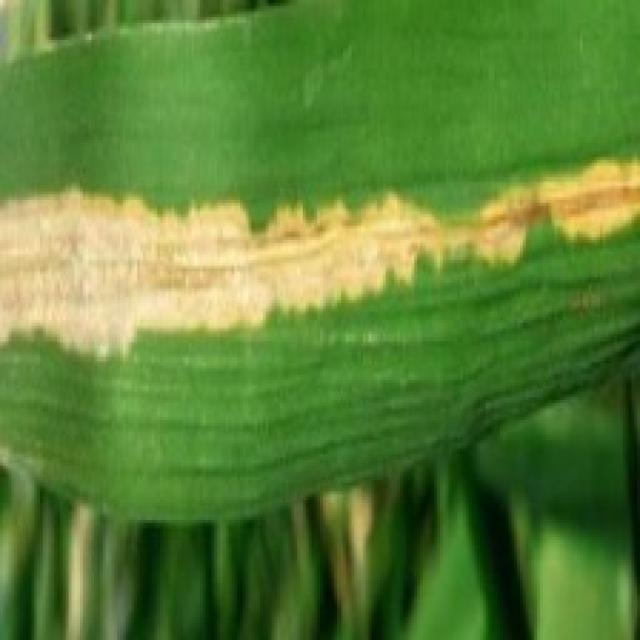Rice___Bacterial_Leaf_Blight: (0, 0, 637, 526)
